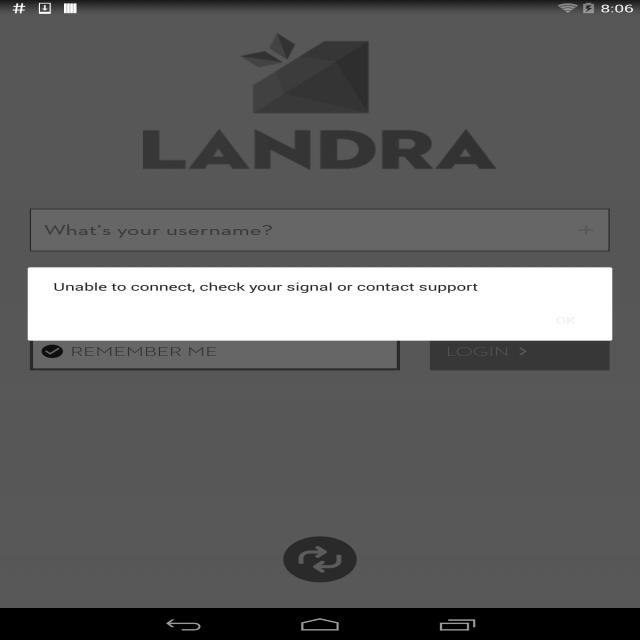EditText: (22, 203, 624, 256)
ImageButton: (276, 534, 364, 584)
ImageView: (230, 29, 391, 121)
TextView: (130, 130, 507, 174), (43, 277, 491, 294)
